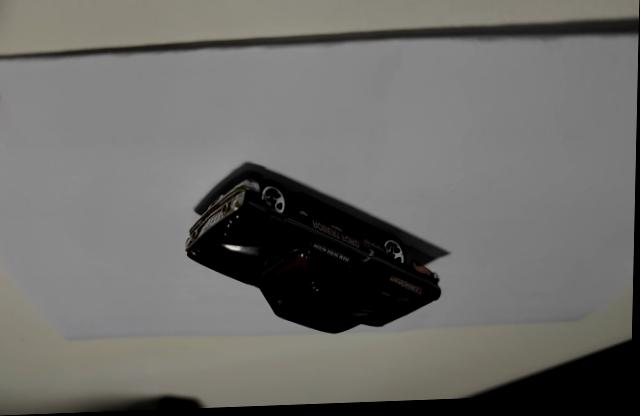01_FORD: (187, 177, 444, 335)
